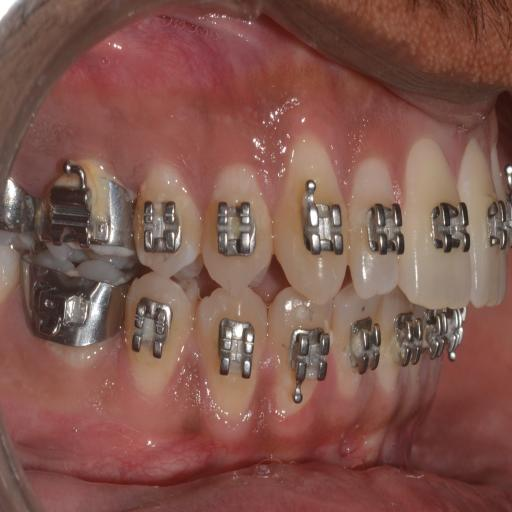correct_brace: (191, 282, 272, 426), (200, 158, 275, 296), (298, 172, 346, 267), (212, 314, 262, 391), (130, 293, 174, 370), (360, 194, 402, 266)
incorrect_brace: (352, 158, 408, 304), (210, 197, 262, 265)
